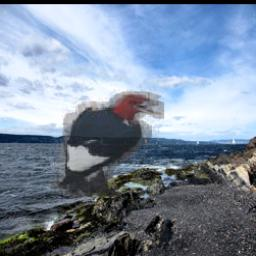Woodpecker: (50, 89, 163, 197)
